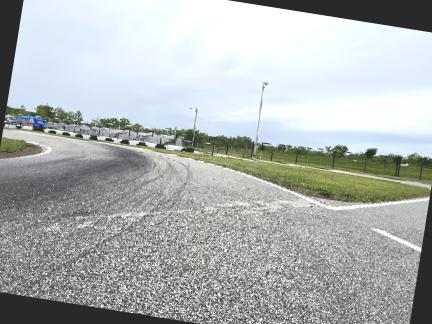Grass: (150, 149, 430, 202), (0, 138, 35, 152)
Lane: (0, 129, 428, 323)
